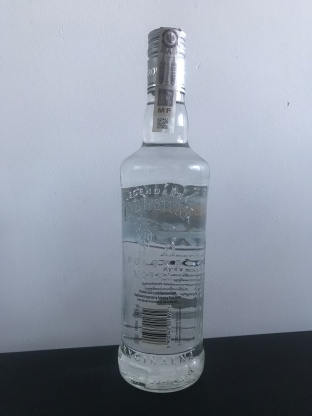nakretka: (144, 23, 188, 97)
